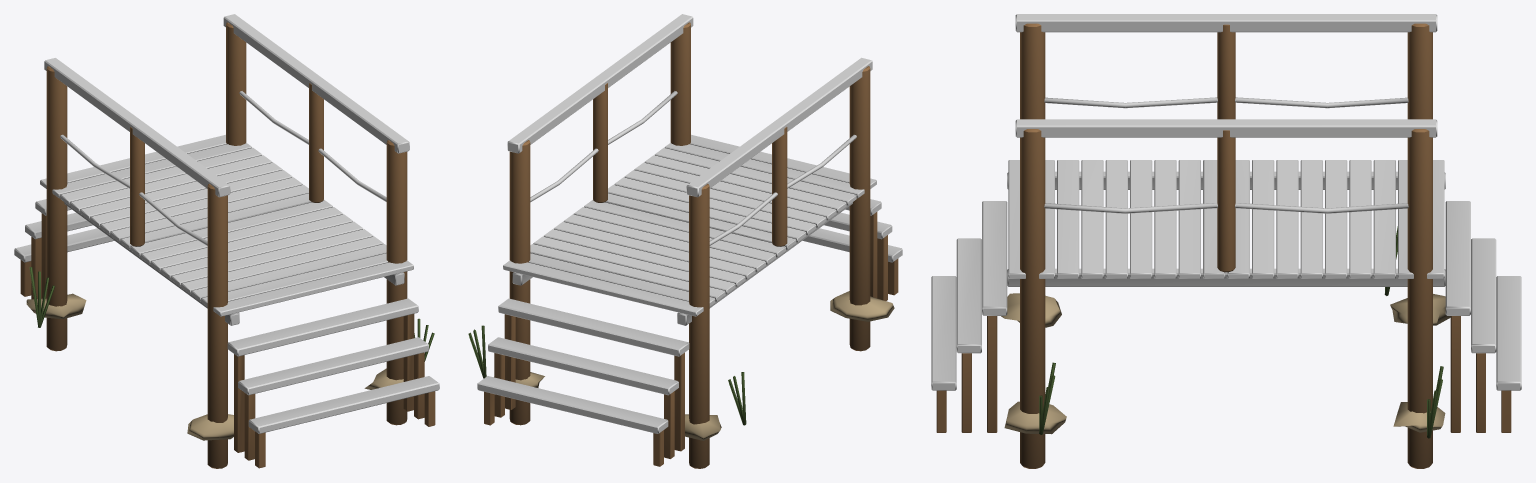
Rendered from Boardwalk.fbx.
3 views of the same model, side by side, from view 1: azimuth 30°, elevation 25°; view 2: azimuth 150°, elevation 25°; view 3: azimuth 270°, elevation 25° (orthographic). The views are drawn at different scales.
Parts seen in each view (by area): view 1: Boardwalk; view 2: Boardwalk; view 3: Boardwalk.
Part boxes in pixels (bbox=[...]): Boardwalk: bbox=[14, 14, 439, 468]; Boardwalk: bbox=[468, 14, 902, 468]; Boardwalk: bbox=[931, 14, 1521, 468].
Size of the model in its own units: 2.17 by 2.24 by 3.5.
